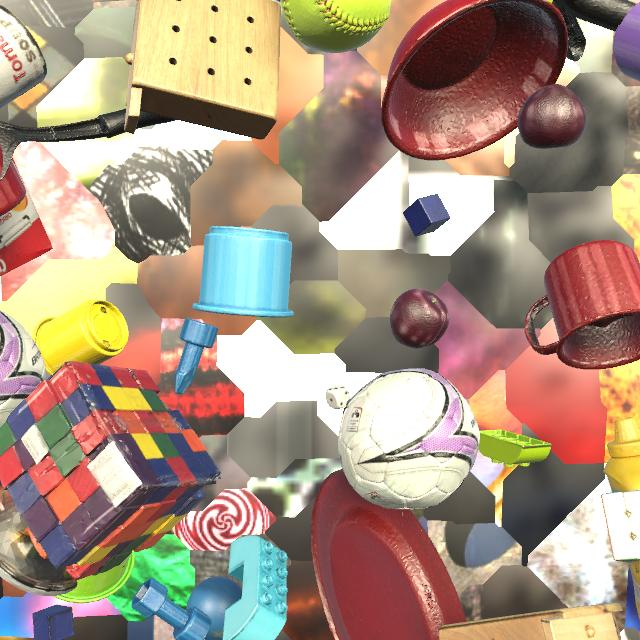ycb_002_master_chef_can: (137, 0, 139, 1)
ycb_003_cracker_box: (0, 157, 53, 276)
ycb_005_tomato_soup_can: (0, 5, 47, 109)
ycb_006_mustard_bottle: (603, 417, 640, 619)
ycb_008_pudding_box: (277, 0, 281, 3)
ycb_018_plum: (518, 84, 586, 149), (390, 288, 449, 349)
